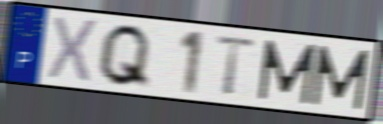1: (178, 29, 206, 96)
M: (256, 38, 319, 107), (309, 43, 372, 112)
Q: (95, 22, 153, 91)
T: (213, 33, 260, 97)
X: (44, 14, 100, 86)
